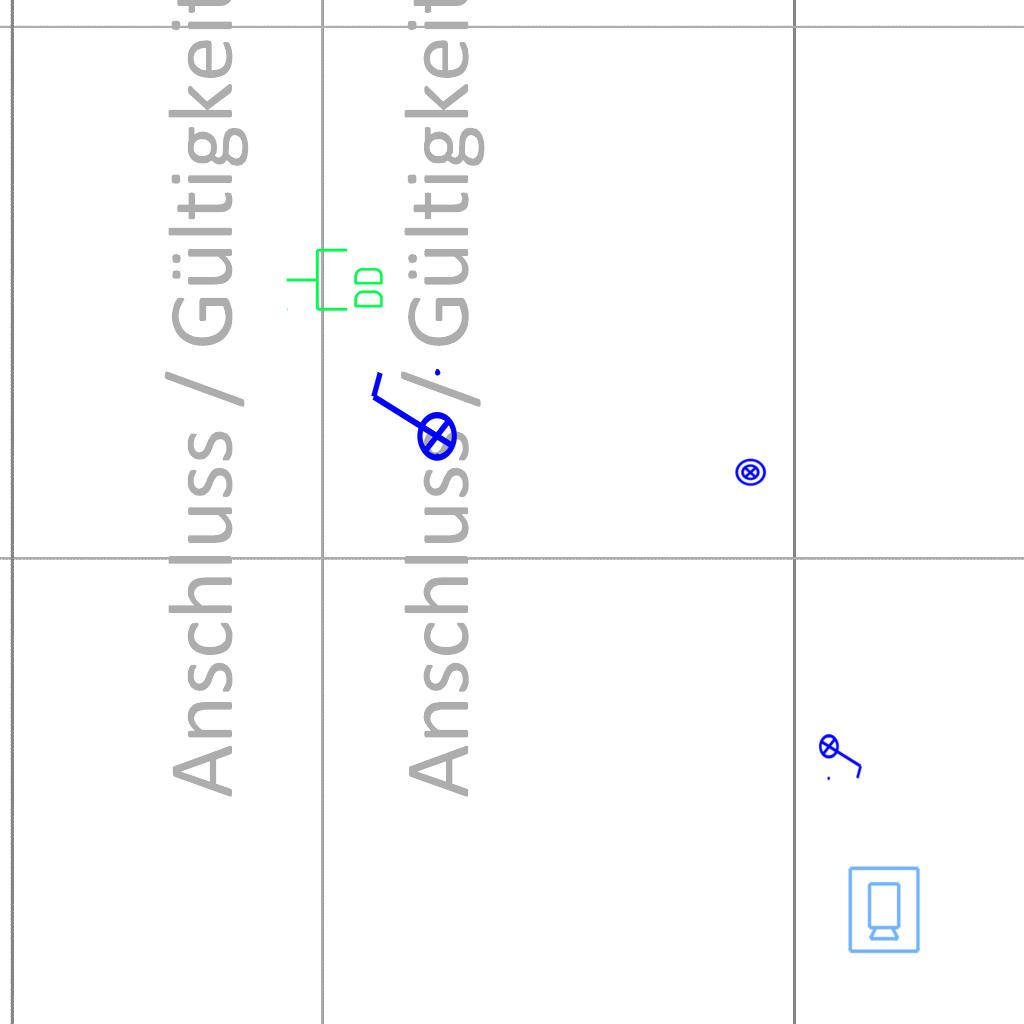Ausschalter_beleuchtet: (363, 363, 459, 475), (818, 727, 866, 783)
Datenanschluss_zweifach: (284, 246, 387, 315)
KFO_Kamera_mit_Festobjektiv: (845, 864, 922, 955)
Taster_beleuchtet: (734, 456, 767, 489)
